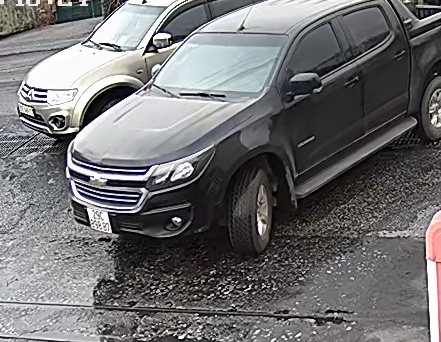vehicle plate: (81, 203, 113, 237)
